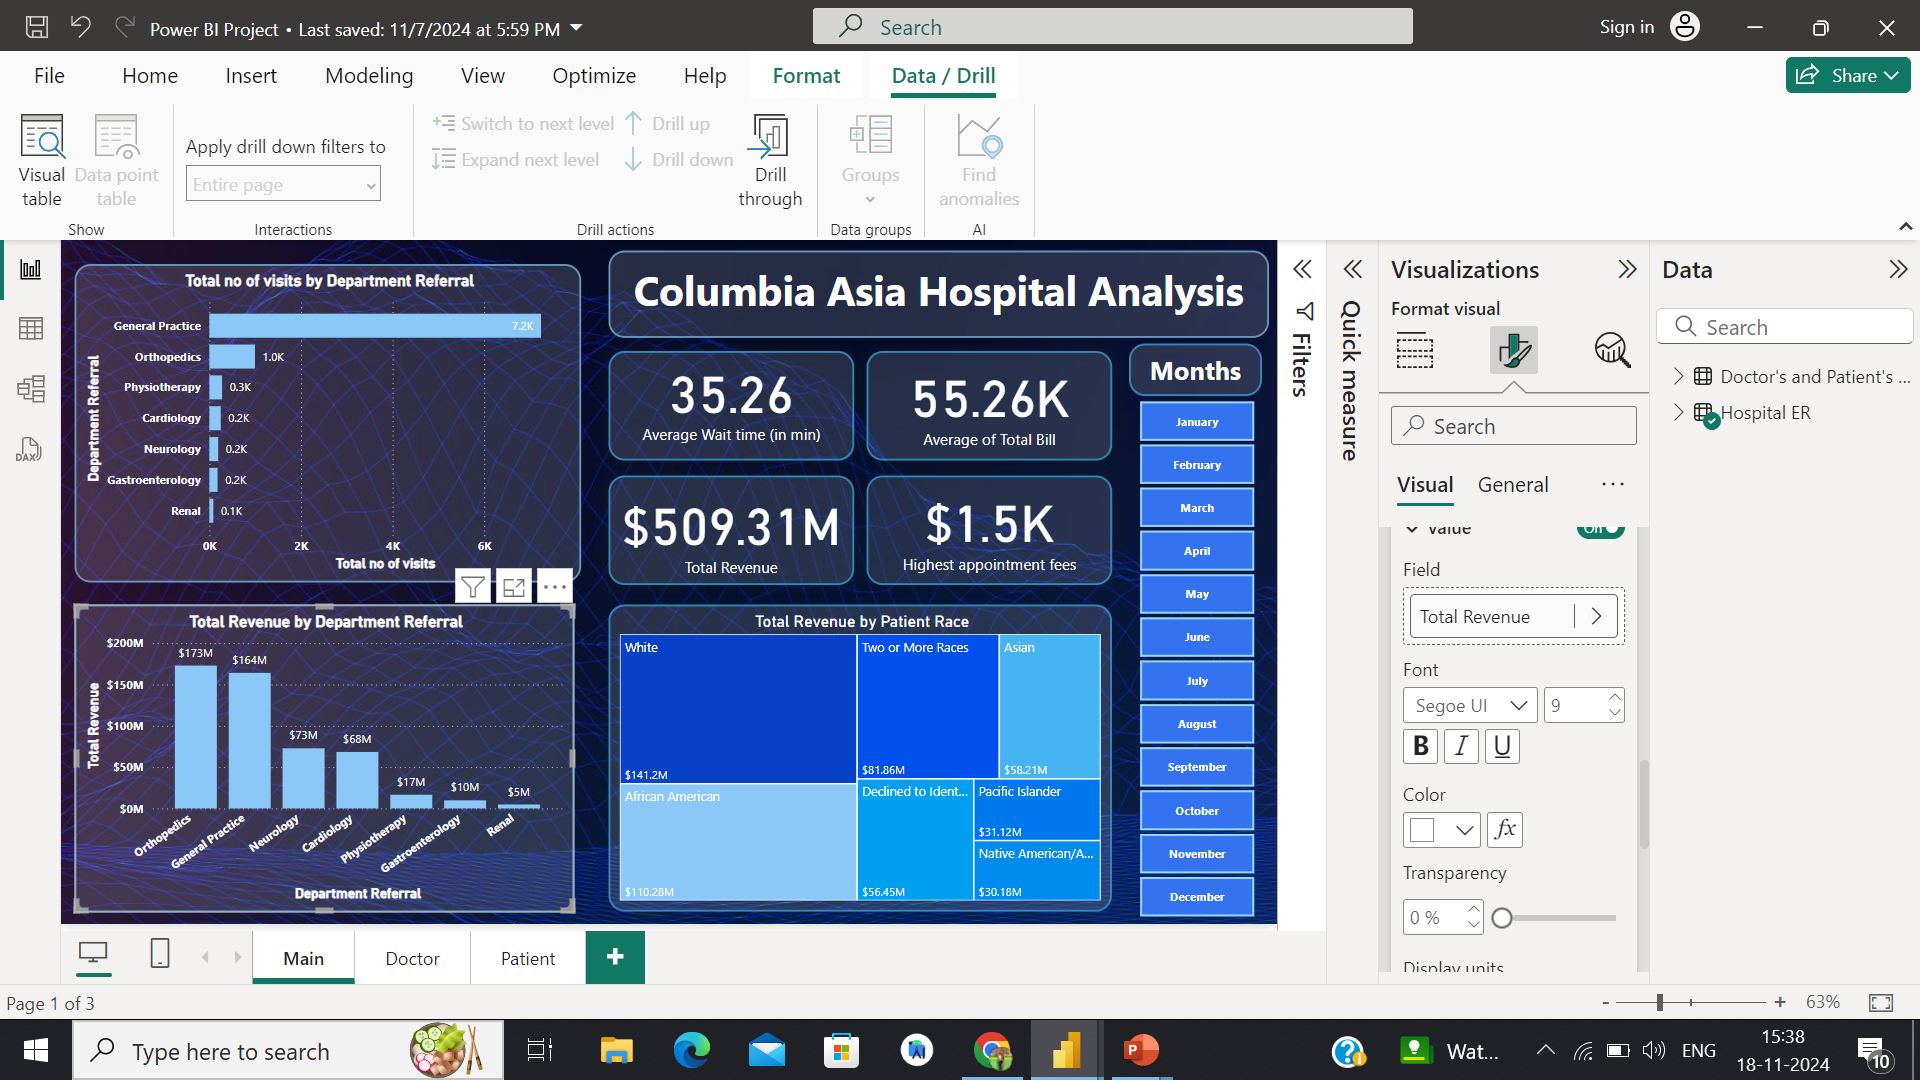

The page's visual inventory and layout, read from the dashboard file:
{"tool":"powerbi","page":{"name":"Main","canvas":[1280,720],"ordinal":0},"visuals":[{"type":"card","fields":{"Values":["Hospital ER.Average Wait time (in min)"]},"box":[576.7,116.7,258.3,115],"z":0},{"type":"barChart","fields":{"Category":["Hospital ER.Department Referral"],"Y":["Hospital ER.Total no of visits"]},"box":[15,25,533.3,335],"z":1000},{"type":"columnChart","fields":{"Category":["Hospital ER.Department Referral"],"Y":["Hospital ER.Total Revenue"]},"box":[15,383.3,525,323.3],"z":2000},{"type":"textbox","box":[576.7,11.7,695,91.7],"z":3000},{"type":"card","fields":{"Values":["Hospital ER.Highest appointment fees"]},"box":[848.3,248.3,258.3,115],"z":4000},{"type":"card","fields":{"Values":["Hospital ER.Total Revenue"]},"box":[576.7,248.3,258.3,115],"z":5000},{"type":"treemap","fields":{"Group":["Hospital ER.Patient Race"],"Values":["Hospital ER.Total Revenue"]},"box":[576.7,382.9,529.9,323.5],"z":6000},{"type":"card","fields":{"Values":["Doctor's and Patient's data.Average of Total Bill"]},"box":[848.3,116.7,258.3,115],"z":7000},{"type":"slicer","fields":{"Values":["Hospital ER.Date Of Visit.Variation.Date Hierarchy.Month"]},"box":[1110,163.3,170,556.7],"z":8000},{"type":"textbox","box":[1125,108.3,140,55],"z":9000}]}

Visuals, with their boxes on the page's 1280x720 design canvas (x1, y1, x2, y2). These are canvas units, not pixel positions in the 1920x1080 screenshot, which may show the page scaled, cropped or inside an application window:
card - Hospital ER.Average Wait time (in min): pyautogui.locateOnScreen(577, 117, 835, 232)
barChart - Hospital ER.Department Referral x Hospital ER.Total no of visits: pyautogui.locateOnScreen(15, 25, 548, 360)
columnChart - Hospital ER.Department Referral x Hospital ER.Total Revenue: pyautogui.locateOnScreen(15, 383, 540, 707)
textbox: pyautogui.locateOnScreen(577, 12, 1272, 103)
card - Hospital ER.Highest appointment fees: pyautogui.locateOnScreen(848, 248, 1107, 363)
card - Hospital ER.Total Revenue: pyautogui.locateOnScreen(577, 248, 835, 363)
treemap - Hospital ER.Patient Race x Hospital ER.Total Revenue: pyautogui.locateOnScreen(577, 383, 1107, 706)
card - Doctor's and Patient's data.Average of Total Bill: pyautogui.locateOnScreen(848, 117, 1107, 232)
slicer - Hospital ER.Date Of Visit.Variation.Date Hierarchy.Month: pyautogui.locateOnScreen(1110, 163, 1280, 720)
textbox: pyautogui.locateOnScreen(1125, 108, 1265, 163)
